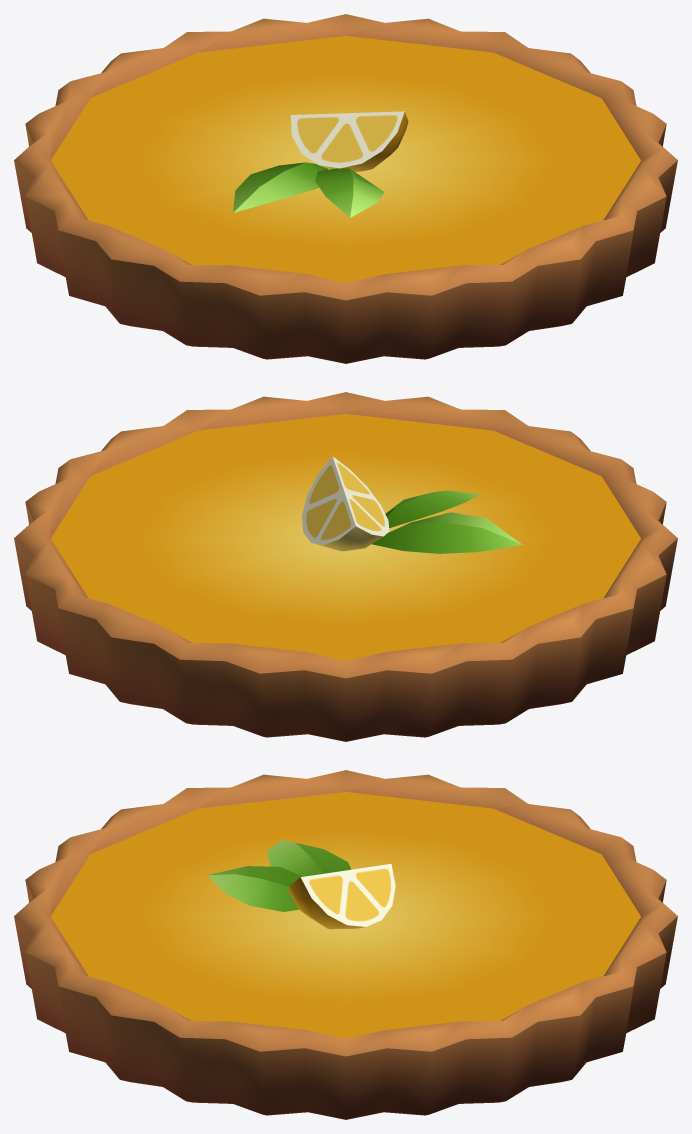
File: m_TarteAuCitron01.fbx
The picture shows the model from 3 angles, top to bottom: view 1: azimuth 30°, elevation 25°; view 2: azimuth 150°, elevation 25°; view 3: azimuth 270°, elevation 25°; orthographic projection.
Parts seen in each view (by area): view 1: m_TarteAuCitron01; view 2: m_TarteAuCitron01; view 3: m_TarteAuCitron01.
Boxes of the visible parts, x1,y1,x2,y2 form: m_TarteAuCitron01: (14,14,677,363); m_TarteAuCitron01: (14,392,677,741); m_TarteAuCitron01: (14,770,677,1119).
Bounding box in the file's own units: 28.01 × 6.12 × 28.01.
